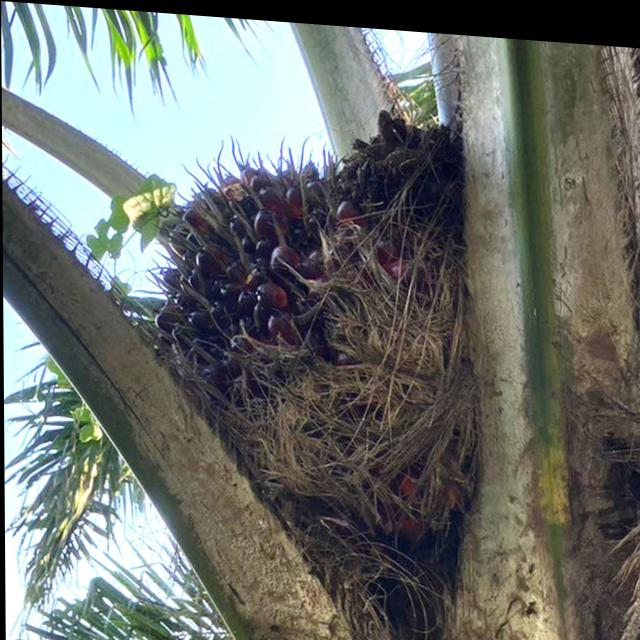ripe: (164, 111, 411, 468)
